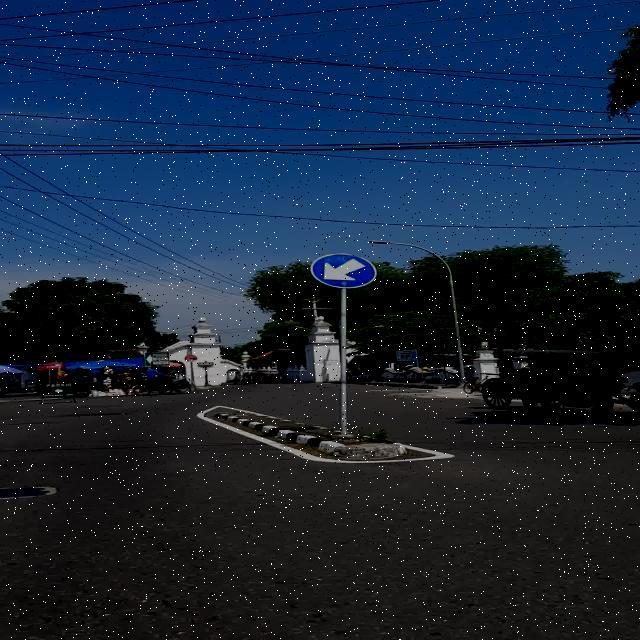Lajur Kiri: (310, 254, 377, 288)
